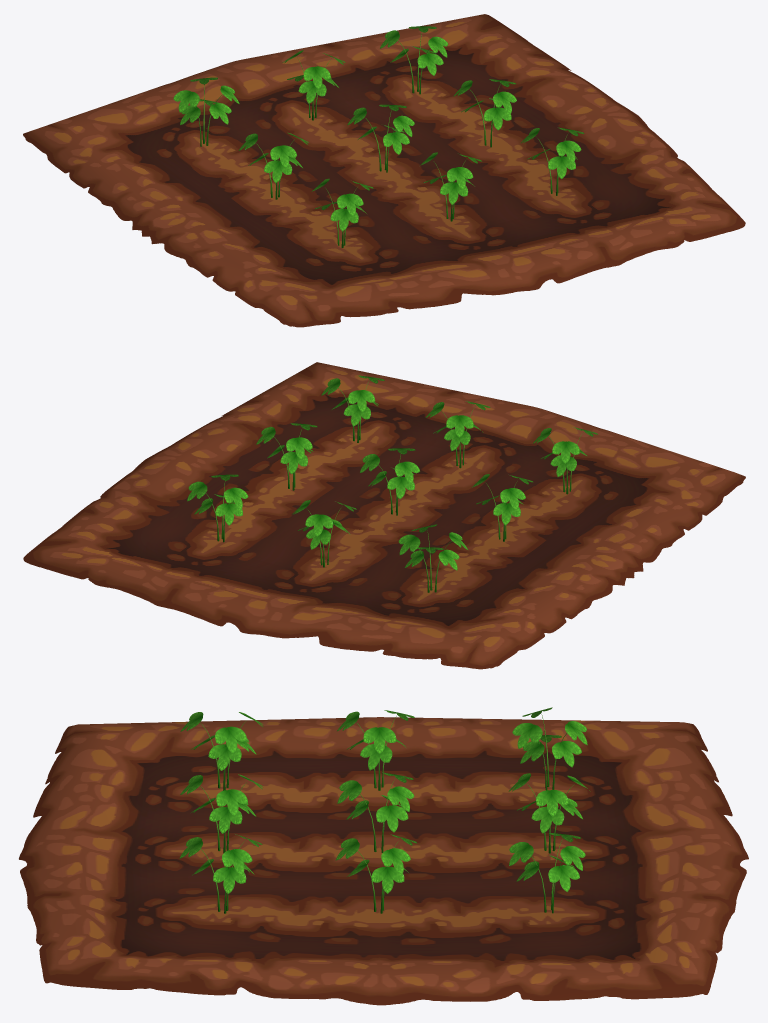
File: Strawberry_Field_Lv1.FBX
The picture shows the model from 3 angles, top to bottom: view 1: azimuth 30°, elevation 25°; view 2: azimuth 150°, elevation 25°; view 3: azimuth 270°, elevation 25°; orthographic projection. The views are drawn at different scales.
Visible parts, largest first — view 1: Strawberry_Field_Lv1; view 2: Strawberry_Field_Lv1; view 3: Strawberry_Field_Lv1.
Part boxes in pixels (x1=…): Strawberry_Field_Lv1: x1=23, y1=14, x2=745, y2=327; Strawberry_Field_Lv1: x1=23, y1=362, x2=745, y2=669; Strawberry_Field_Lv1: x1=18, y1=707, x2=748, y2=1005.
Bounding box in the file's own units: 274 × 36.17 × 296.
